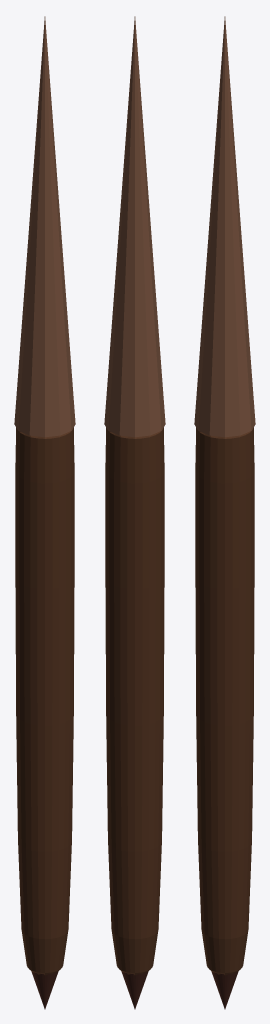
Rendered from Wand 22.glb.
The picture shows the model from 3 angles, left to right: view 1: azimuth 90°, elevation 25°; view 2: azimuth 150°, elevation 25°; view 3: azimuth 270°, elevation 25°; orthographic projection.
Parts seen in each view (by area): view 1: GeneratedWand; view 2: GeneratedWand; view 3: GeneratedWand.
Part boxes in pixels (x1,y1,x2,y2): GeneratedWand: [14, 16, 75, 1009]; GeneratedWand: [104, 16, 165, 1009]; GeneratedWand: [194, 16, 255, 1009].
Bounding box in the file's own units: 0.0282 × 0.5059 × 0.0282.
